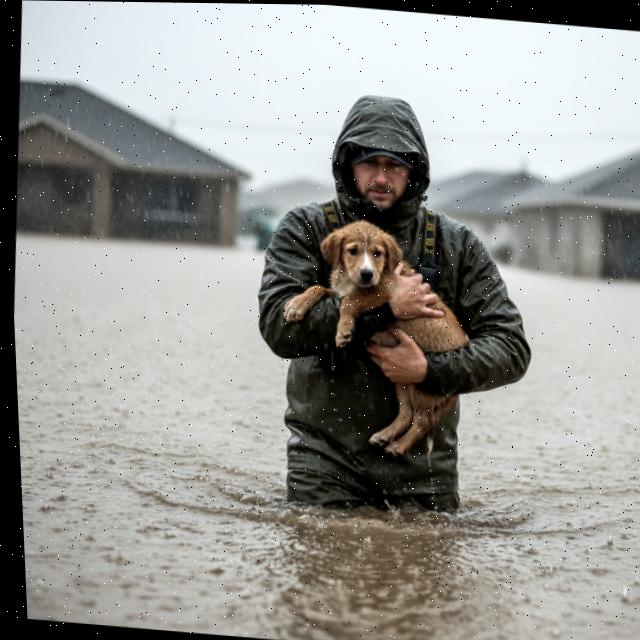civilian: (212, 72, 565, 541)
dog: (272, 200, 492, 469)
